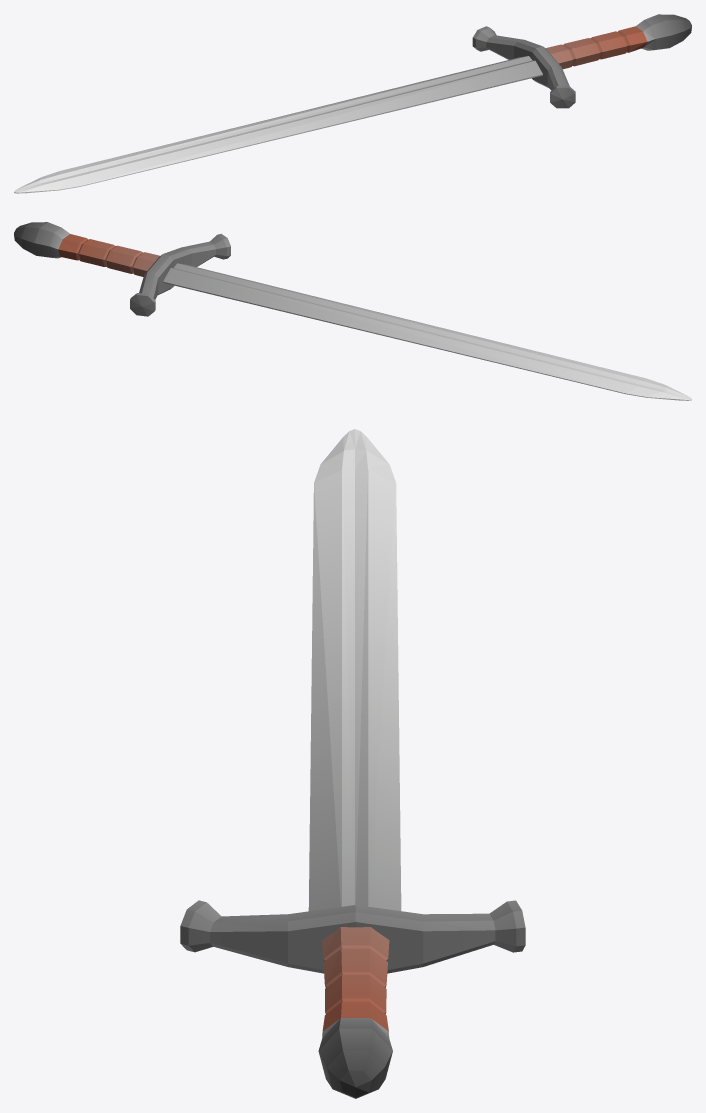
The model's file is sword_a.glb.
The picture shows the model from 3 angles, top to bottom: view 1: azimuth 30°, elevation 25°; view 2: azimuth 150°, elevation 25°; view 3: azimuth 270°, elevation 25°; orthographic projection. The views are drawn at different scales.
Visible parts, largest first — view 1: Sword_A_mesh1; view 2: Sword_A_mesh1; view 3: Sword_A_mesh1.
Boxes of the visible parts, x1,y1,x2,y2 form: Sword_A_mesh1: (14,14,691,193); Sword_A_mesh1: (14,222,691,400); Sword_A_mesh1: (180,429,525,1098).
Bounding box in the file's own units: 1.41 × 0.0668 × 0.3107.
Materials: 1 (1 with a texture image).
